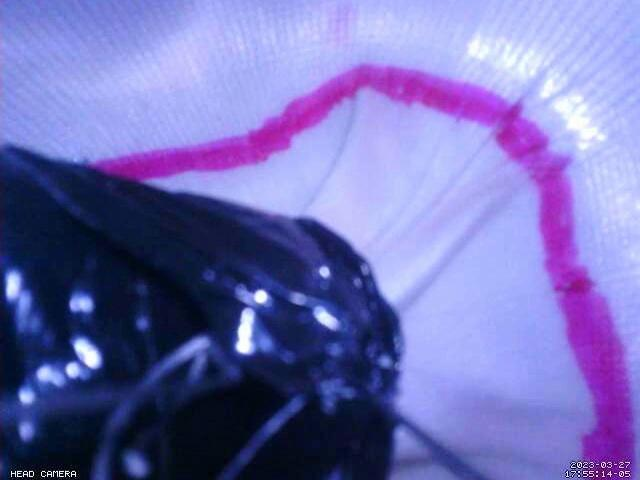red-circle: (90, 61, 636, 480)
